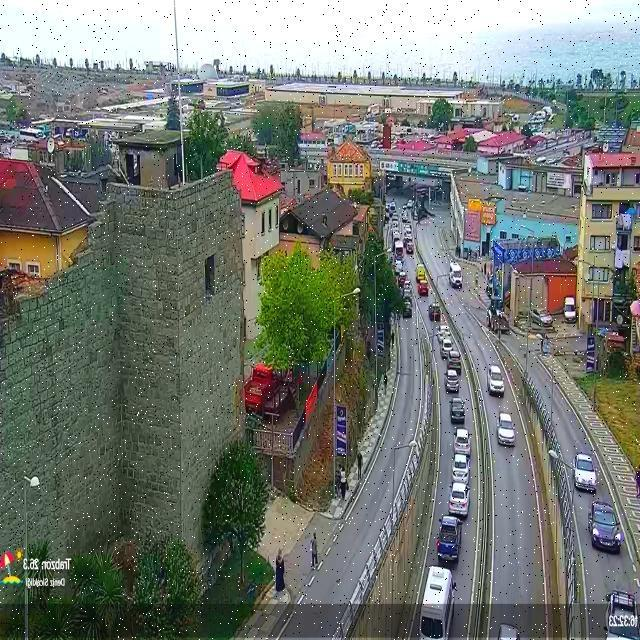Car: (588, 501, 621, 553), (436, 517, 461, 564), (573, 452, 598, 492), (448, 481, 470, 518), (496, 412, 518, 448), (452, 454, 471, 480), (453, 427, 471, 454), (488, 366, 504, 396), (530, 308, 553, 328), (450, 398, 466, 423), (445, 369, 461, 393), (438, 323, 451, 349), (447, 354, 462, 374), (428, 304, 441, 321), (402, 298, 412, 318), (417, 280, 429, 296), (397, 270, 407, 287), (402, 280, 412, 296)
Truck: (418, 567, 455, 639), (448, 262, 462, 288), (394, 239, 404, 257), (416, 263, 426, 281)
Van: (563, 296, 576, 323)
